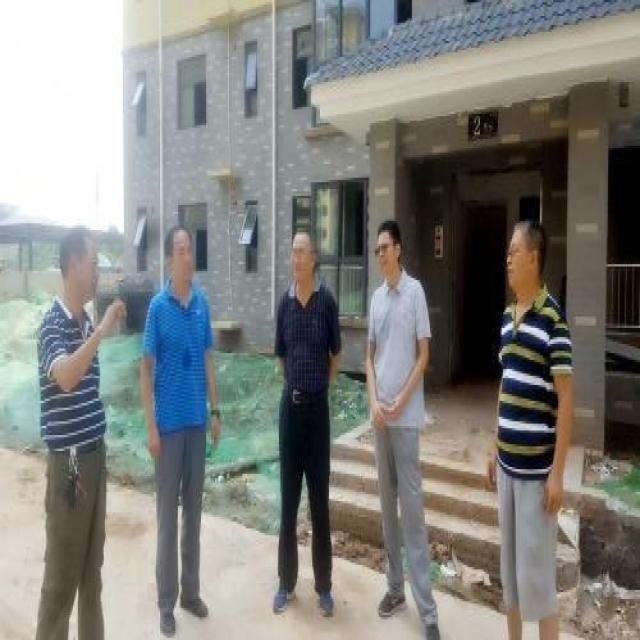no-helmet: (503, 208, 553, 308), (56, 219, 100, 314), (164, 216, 200, 296), (286, 221, 318, 294), (371, 216, 407, 278)
